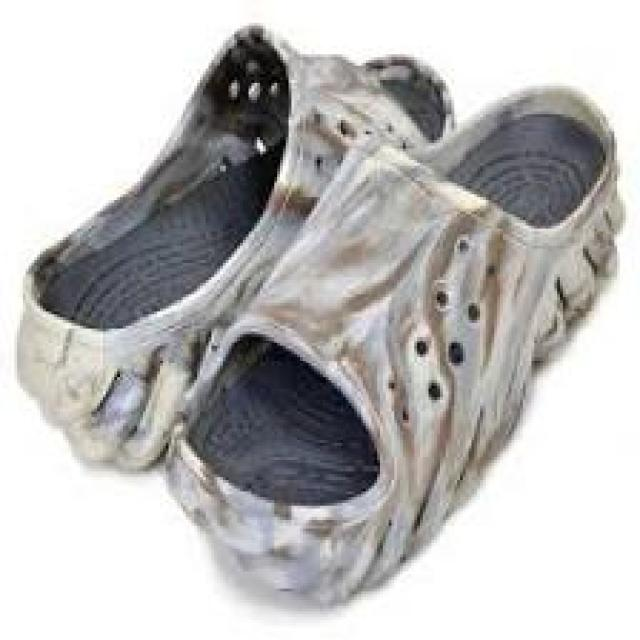shoe: (171, 90, 624, 604), (19, 28, 455, 469)
